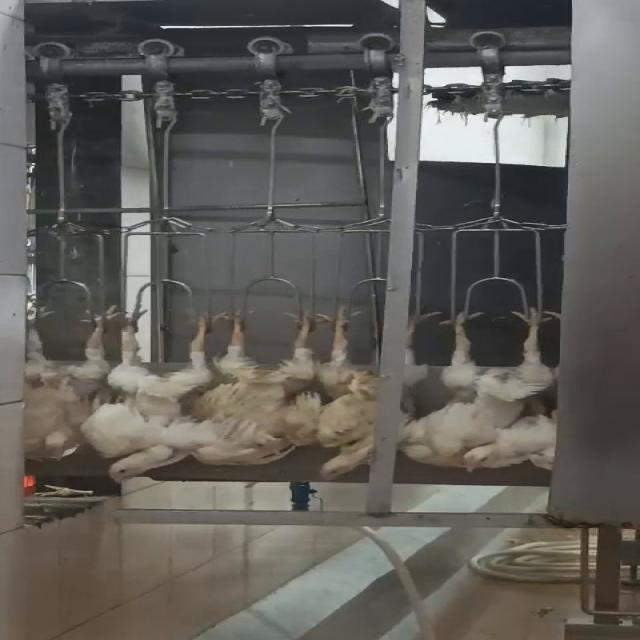chicken: (87, 307, 245, 485), (407, 302, 560, 472), (204, 301, 328, 467), (11, 306, 117, 464), (299, 304, 389, 483)
